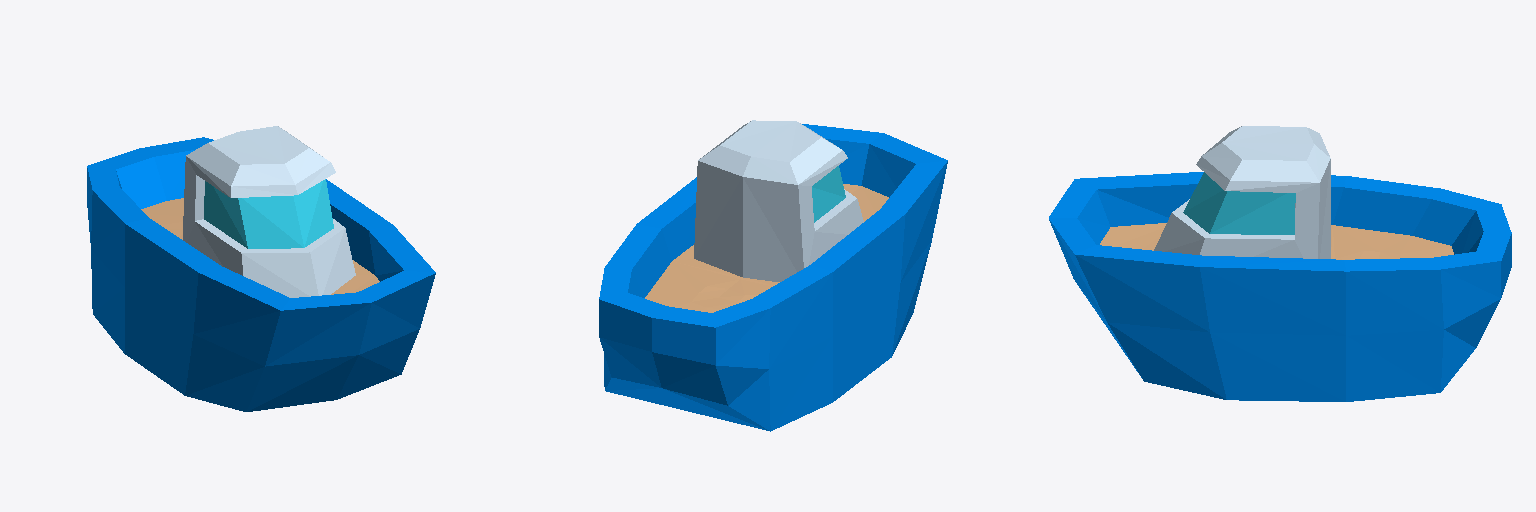
3 views of the same model, side by side, from view 1: azimuth 30°, elevation 25°; view 2: azimuth 150°, elevation 25°; view 3: azimuth 270°, elevation 25° (orthographic).
Visible parts, largest first — view 1: Cube; view 2: Cube; view 3: Cube.
Part boxes in pixels (bbox=[...]): Cube: bbox=[87, 126, 435, 411]; Cube: bbox=[599, 120, 947, 431]; Cube: bbox=[1049, 126, 1511, 401].
Bounding box in the file's own units: 5.73 × 6.33 × 11.72.
1 materials, 1 textured.